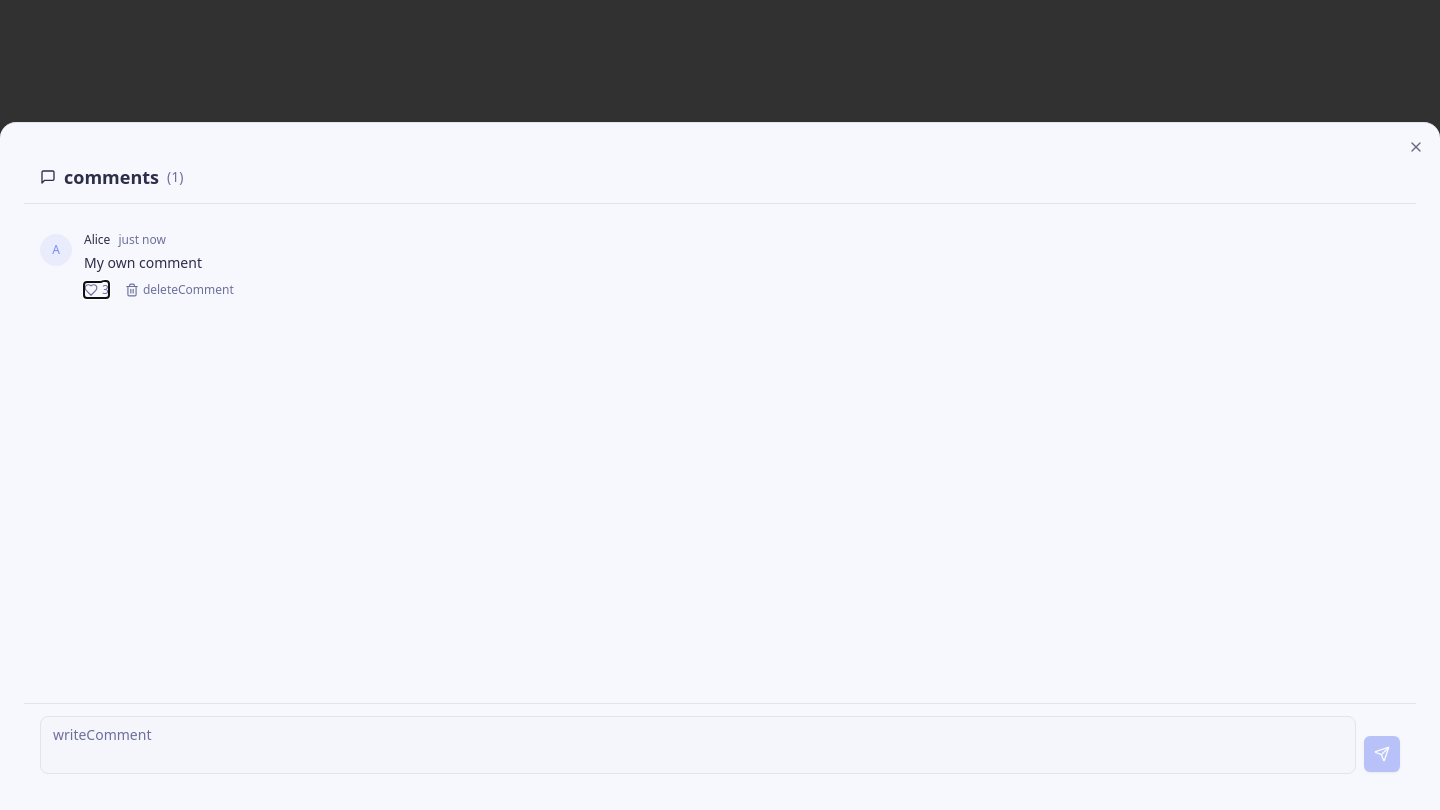
CommentSheet › shows confirmation step before deleting
The image size is (1440, 810).
What coordinates should you click on to do the following:
click the button "deleteComment"
I would click on:
 (179, 290)
Its box is [125, 282, 234, 298].
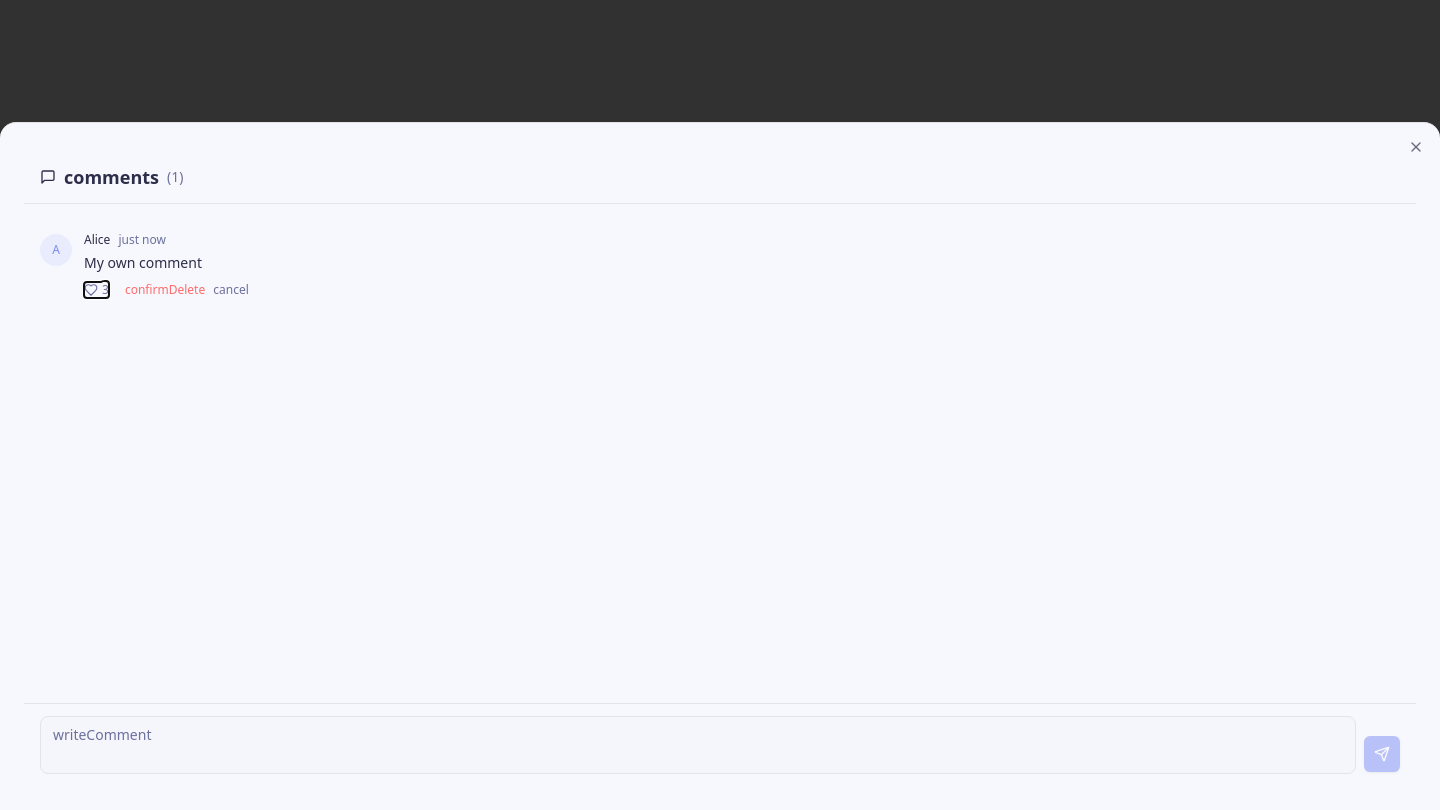
Expected: the button "confirmDelete" is shown, [125, 282, 205, 298]
